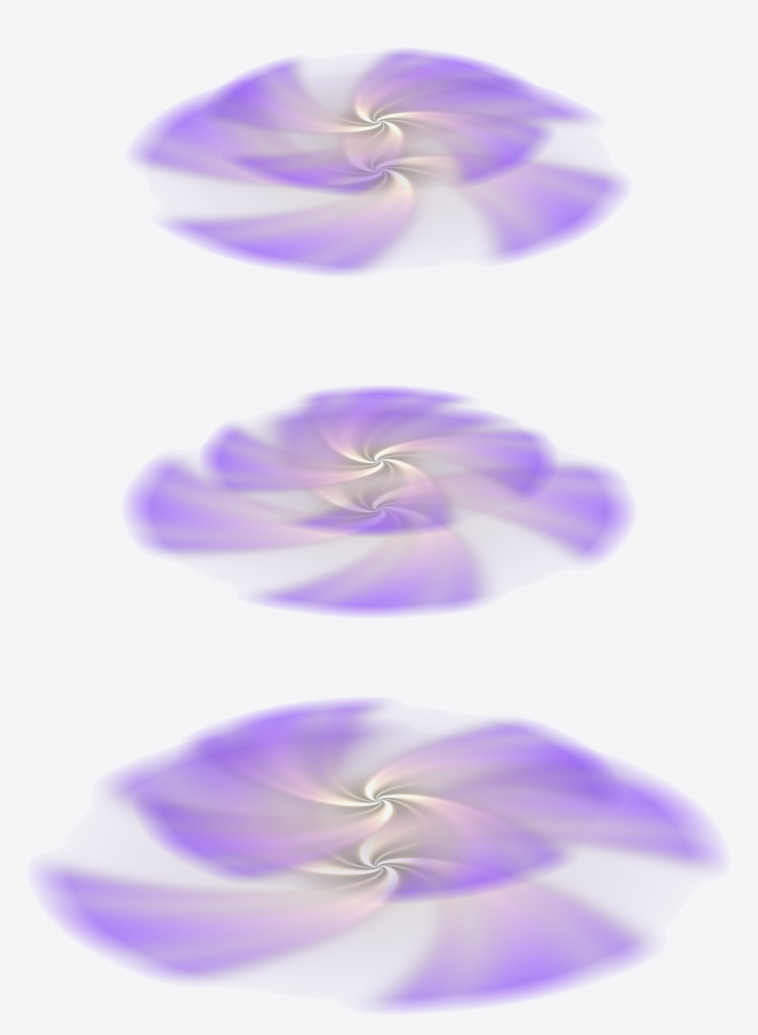
File: ascent_fx.glb
The picture shows the model from 3 angles, top to bottom: view 1: azimuth 30°, elevation 25°; view 2: azimuth 150°, elevation 25°; view 3: azimuth 270°, elevation 25°; orthographic projection. The views are drawn at different scales.
Parts seen in each view (by area): view 1: fx_gl_well_swirl; view 2: fx_gl_well_swirl; view 3: fx_gl_well_swirl.
Part boxes in pixels (box(x1,y1,x2,y2)): fx_gl_well_swirl: box(133, 49, 624, 274); fx_gl_well_swirl: box(126, 386, 631, 615); fx_gl_well_swirl: box(36, 699, 721, 1010).
Size of the model in its own units: 3.5 by 0.35 by 3.5.
1 material, 1 textured.
